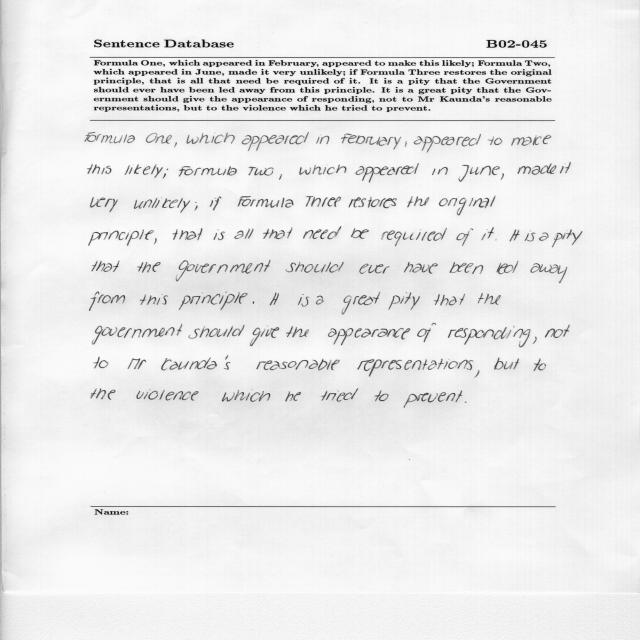word: (357, 359, 473, 377), (176, 261, 270, 282), (92, 325, 182, 345), (448, 326, 531, 347), (328, 328, 410, 345), (242, 132, 309, 151), (179, 292, 248, 310), (355, 163, 419, 182), (414, 134, 481, 152), (381, 228, 447, 246), (88, 229, 154, 246), (439, 197, 495, 216), (404, 390, 463, 408), (161, 356, 230, 371), (341, 134, 401, 150), (256, 359, 340, 370), (342, 292, 380, 315), (134, 198, 190, 213), (189, 325, 245, 339), (531, 263, 567, 283), (458, 165, 500, 182), (90, 292, 126, 311), (137, 389, 199, 400), (238, 196, 294, 208), (179, 166, 237, 177), (286, 262, 344, 273), (222, 389, 270, 402), (186, 132, 235, 144), (250, 326, 279, 346), (388, 292, 420, 310), (85, 133, 135, 144), (552, 229, 582, 247), (348, 197, 397, 208), (125, 164, 163, 178), (321, 389, 358, 402), (300, 165, 347, 175), (518, 163, 556, 175), (303, 227, 341, 239), (511, 135, 551, 146), (90, 197, 118, 212), (450, 262, 484, 274), (306, 196, 341, 207), (404, 262, 438, 273), (417, 323, 436, 342), (173, 228, 203, 240), (263, 227, 292, 239), (434, 294, 465, 305), (545, 325, 570, 338), (494, 357, 519, 370), (92, 260, 119, 272), (140, 294, 168, 305), (457, 228, 474, 246), (360, 264, 390, 274), (146, 133, 172, 144), (497, 261, 519, 274), (91, 389, 116, 400), (137, 262, 161, 273), (478, 293, 500, 305), (286, 326, 309, 337), (87, 164, 112, 174), (407, 196, 429, 207), (248, 167, 274, 176), (235, 228, 254, 239), (351, 228, 369, 239), (128, 358, 146, 369), (285, 391, 301, 402), (481, 227, 494, 240), (374, 391, 389, 402), (210, 197, 221, 211), (94, 357, 108, 368), (534, 359, 546, 371), (298, 294, 309, 307), (510, 229, 520, 242), (432, 167, 448, 175), (560, 163, 571, 174), (525, 231, 536, 242), (270, 293, 279, 306), (488, 137, 502, 145), (214, 230, 225, 240), (317, 136, 330, 144), (539, 232, 549, 241), (316, 296, 324, 305), (163, 169, 168, 179), (475, 370, 480, 378), (533, 337, 537, 344), (195, 202, 198, 210), (501, 173, 504, 180), (174, 142, 177, 148), (279, 174, 282, 180), (154, 239, 157, 245), (405, 141, 407, 147), (465, 401, 467, 403), (253, 301, 254, 304), (495, 240, 497, 240)
